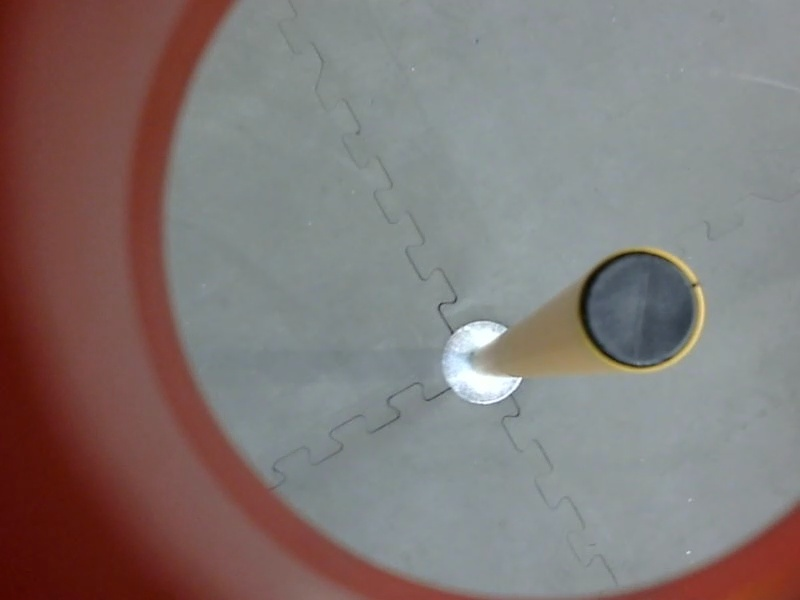tip: (573, 239, 712, 383)
